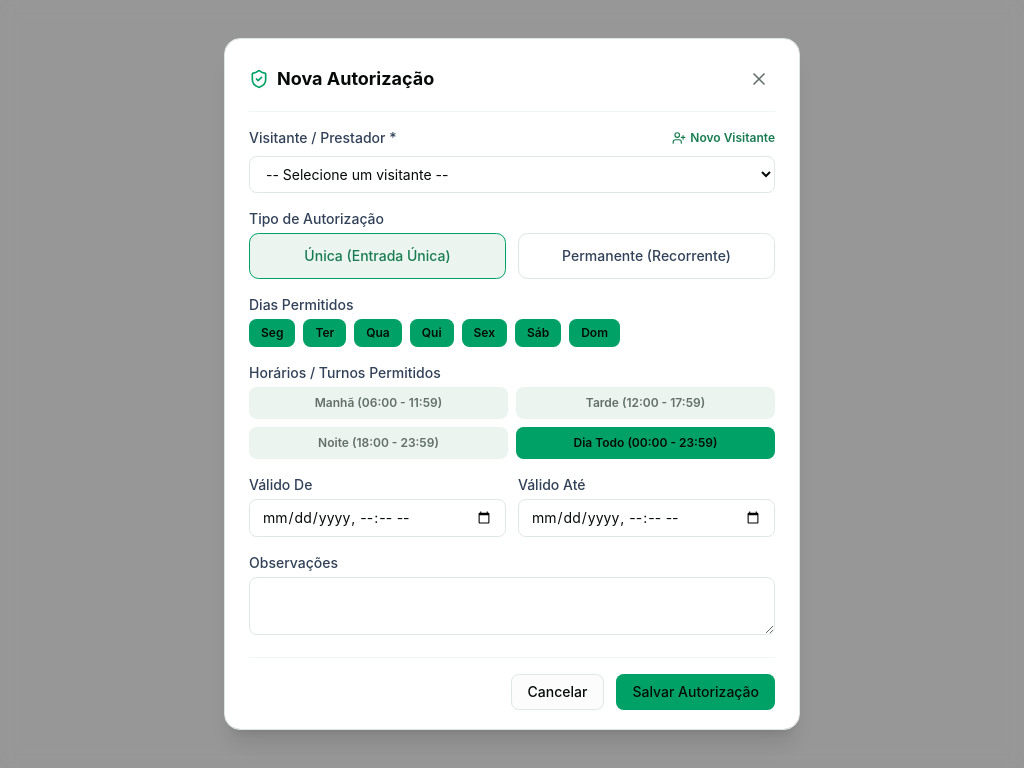
Test case: AuthorizationFormModal › blocks submission with the selectVisitor message when no visitor is chosen
The image size is (1024, 768).
Click the button "Salvar Autorização" at (696, 692), box [616,674,775,710]
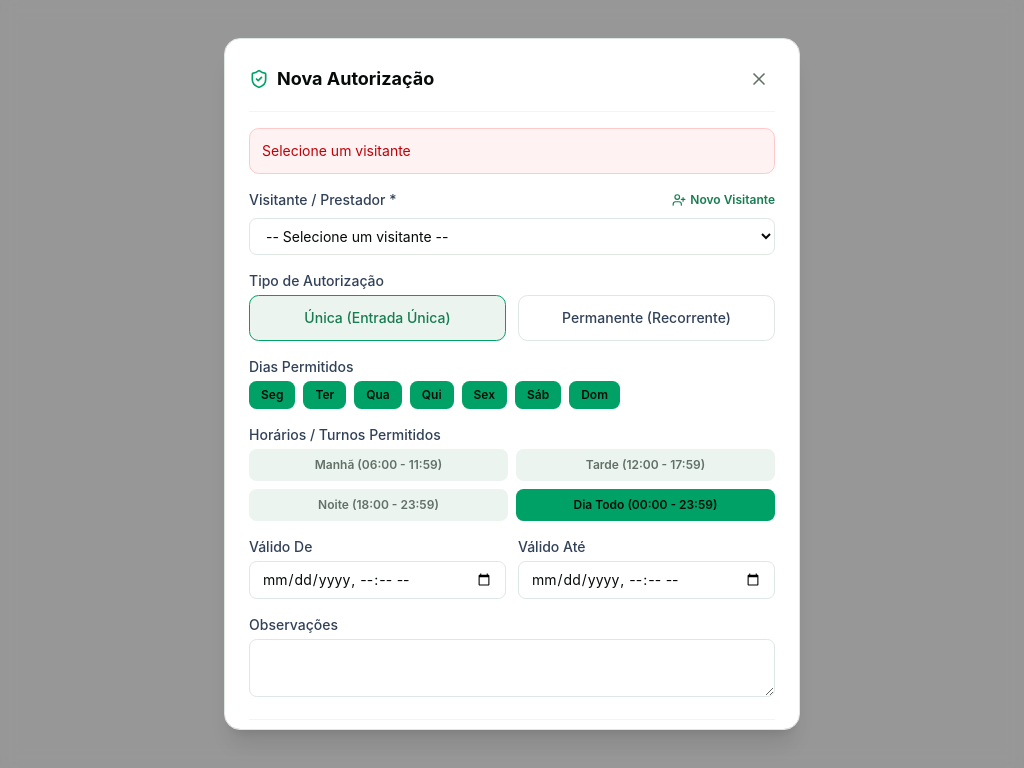
Expected: the text "Selecione um visitante" is shown, [249,128,775,174]
